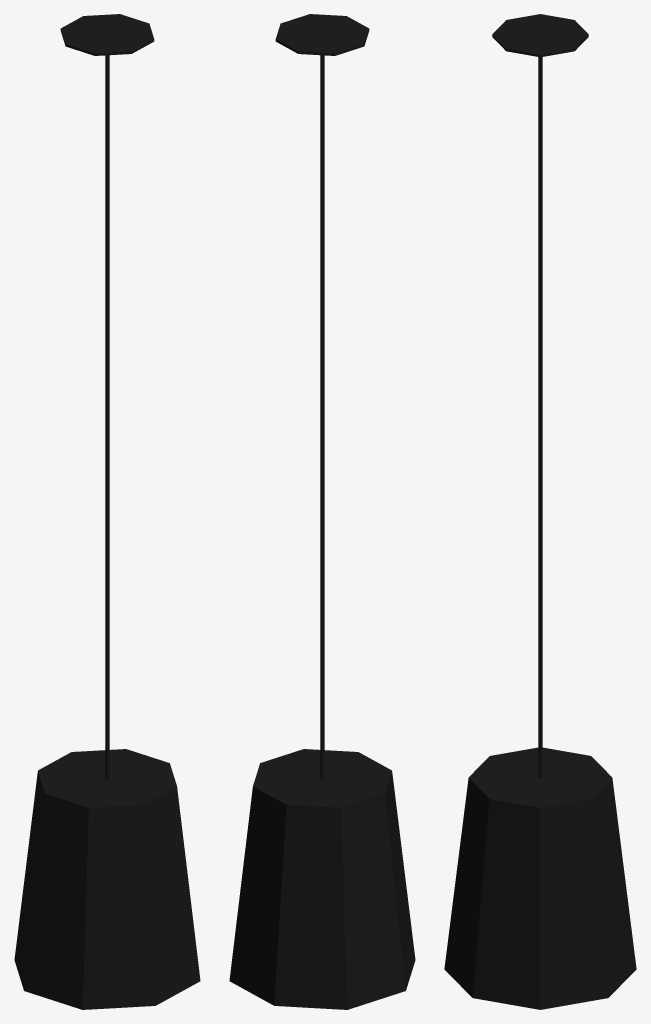
The model's file is cnlounge_lamp2.fbx.
The picture shows the model from 3 angles, left to right: view 1: azimuth 30°, elevation 25°; view 2: azimuth 150°, elevation 25°; view 3: azimuth 270°, elevation 25°; orthographic projection.
Visible parts, largest first — view 1: cnlounge_lamp2; view 2: cnlounge_lamp2; view 3: cnlounge_lamp2.
Boxes of the visible parts, box(x1,y1,x2,y2) form: cnlounge_lamp2: box(14, 14, 200, 1009); cnlounge_lamp2: box(229, 14, 415, 1009); cnlounge_lamp2: box(444, 14, 636, 1009).
Size of the model in its own units: 0.00203 by 0.0109 by 0.00203.
Materials: 1 (1 with a texture image).
